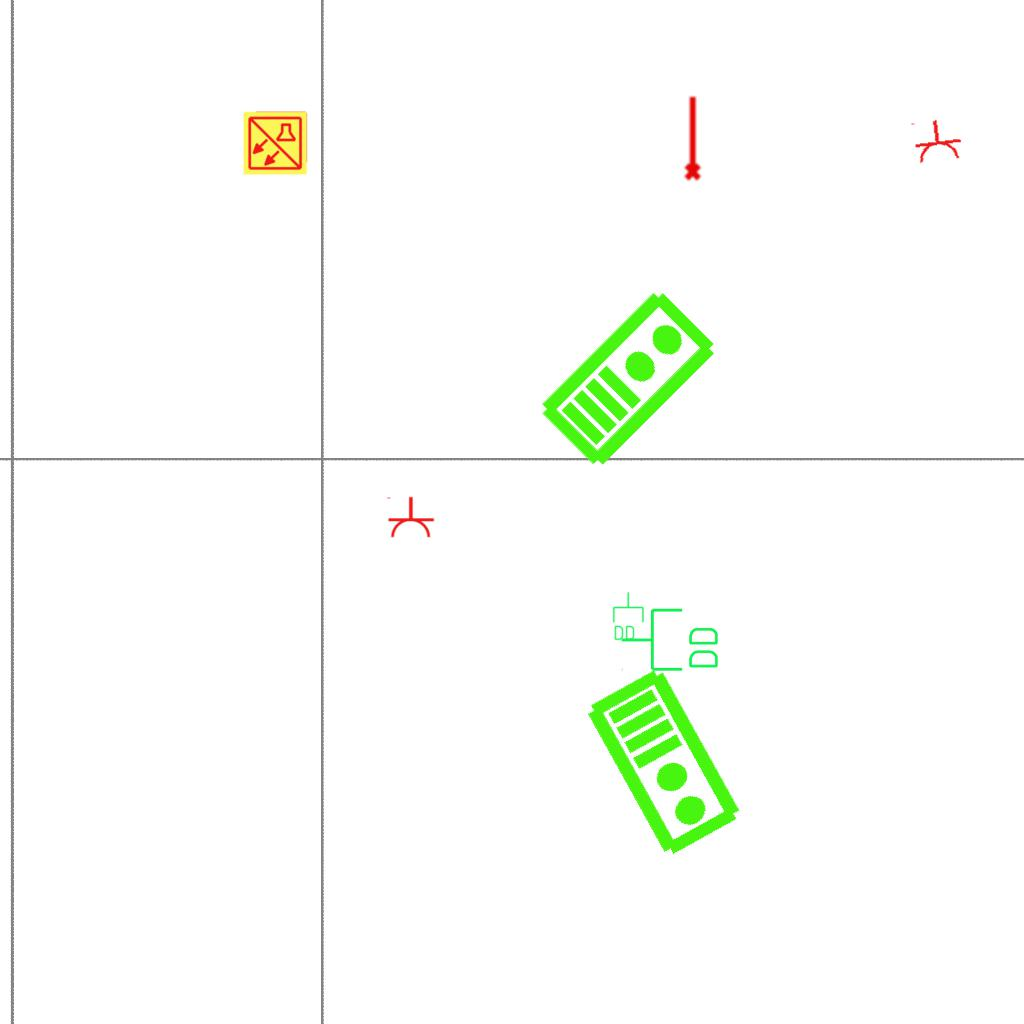ASR_Ansaugoeffnung: (680, 94, 703, 182)
Datenanschluss_zweifach: (619, 606, 722, 675), (611, 591, 645, 642)
Gegensprechanlage_mit_Video: (531, 281, 724, 473), (581, 662, 750, 862)
OKW_Multisensormelder_(Kombination_optischer_Rauch-Kahlenmonoxid_Waerme-Melder): (242, 110, 308, 176)
Schukosteckdose_einfach: (909, 116, 964, 166), (385, 496, 435, 539)
